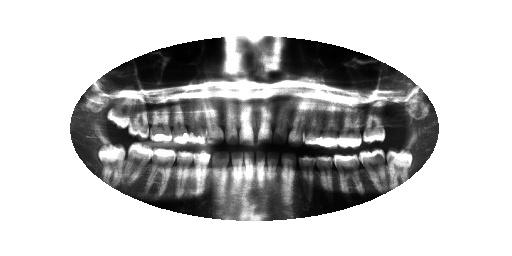Cavity: (299, 149, 317, 204)
